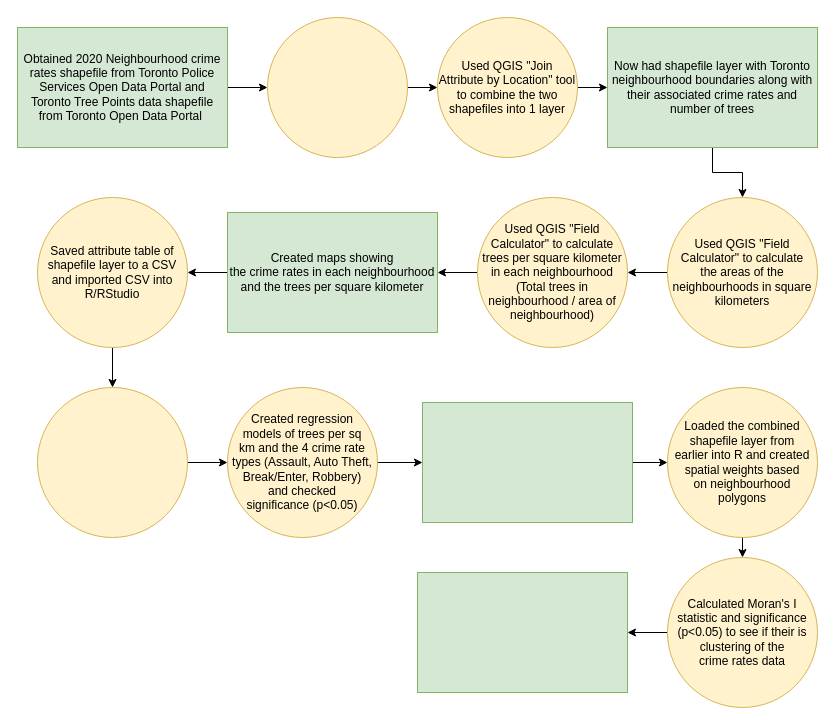
The diagram is 835 pixels wide and 725 high, and some of its shapes have lost their labels. The shapes that lost their labels are listed below. From the top down, each one's centre as x and y in pixels, then its label:
At point (337, 87): "Changed properties of both shapefile layers to same CRS (NAD 1983 UTM Zone 17N)".
At point (112, 462): "Loaded in required libraries (ggplot2, ggpubr, rgdal, spdep)".
At point (527, 462): "Plotted maps of the regression models using ggplot".
At point (522, 632): "Analyzed and reported results to discuss possible reasoning".
